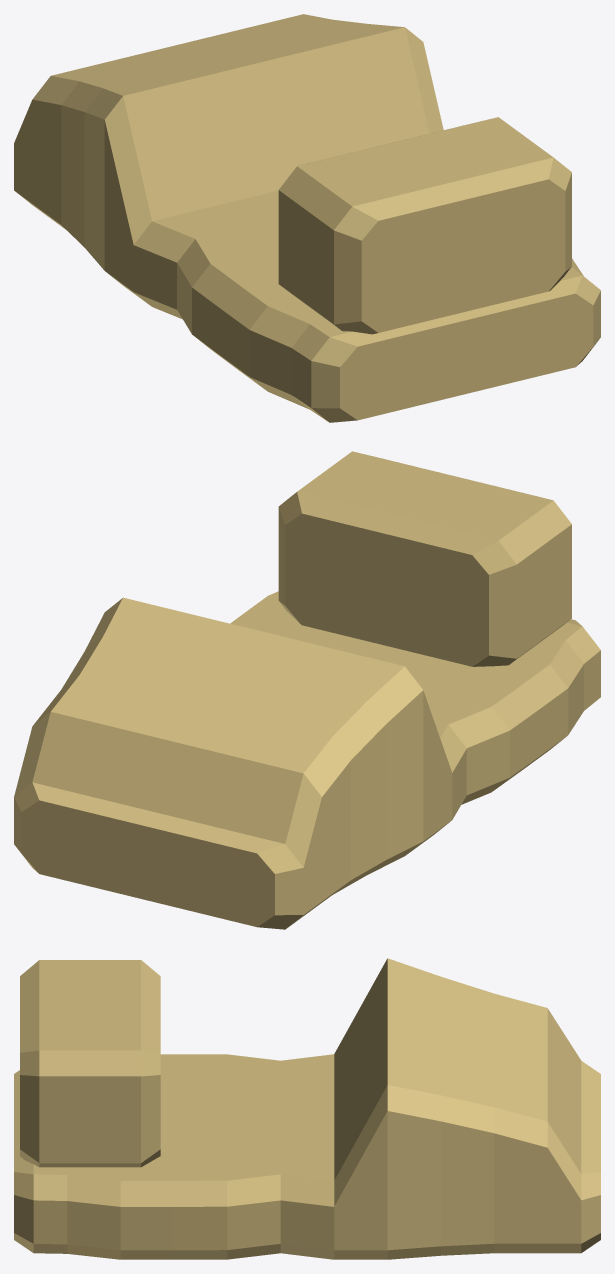
The model's file is tallow_heavy_b.glb.
3 views of the same model, one above another, from view 1: azimuth 30°, elevation 25°; view 2: azimuth 150°, elevation 25°; view 3: azimuth 270°, elevation 25° (orthographic). The views are drawn at different scales.
Visible parts, largest first — view 1: tallow_heavy_b; view 2: tallow_heavy_b; view 3: tallow_heavy_b.
Boxes of the visible parts, box(x1,y1,x2,y2) form: tallow_heavy_b: box(14, 14, 600, 422); tallow_heavy_b: box(14, 451, 600, 929); tallow_heavy_b: box(14, 958, 600, 1259).
Bounding box in the file's own units: 4.1 × 2.55 × 7.1.
